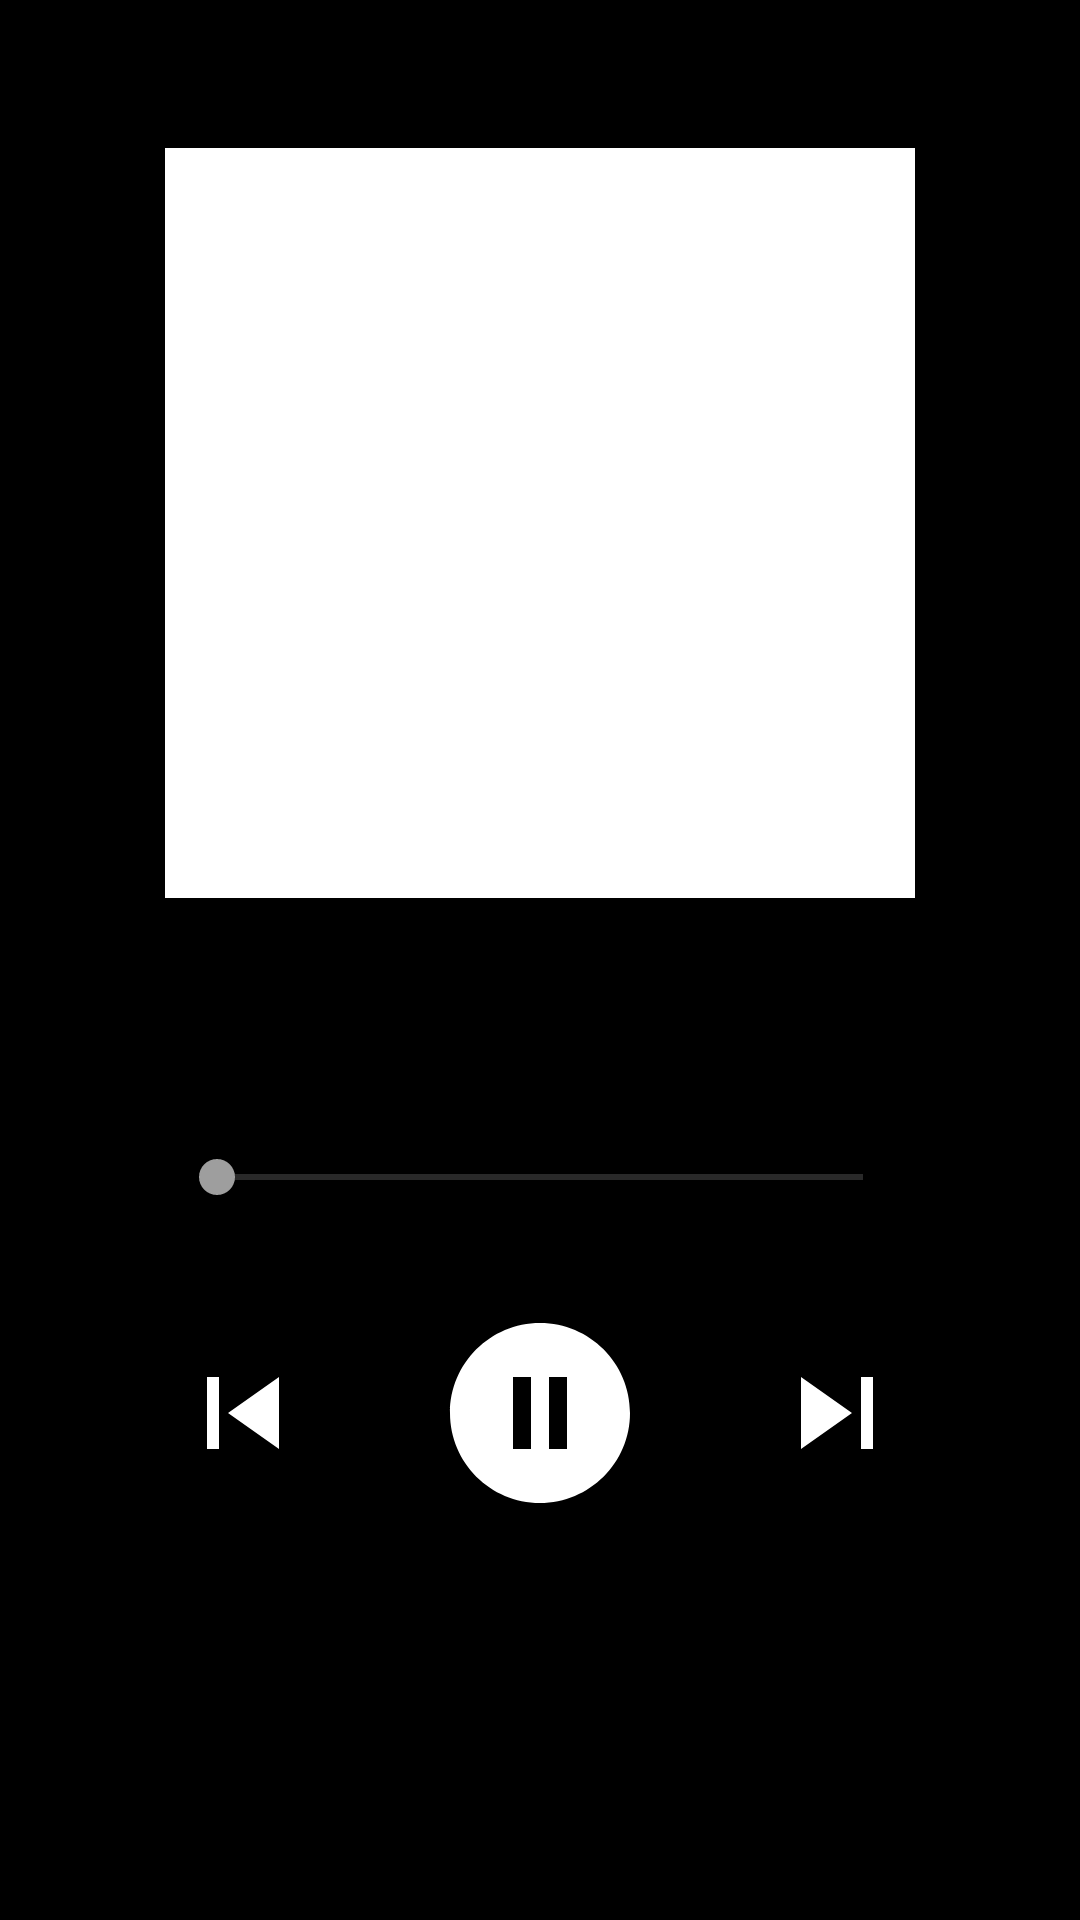

Icon click points for this 1080×1920 phone screenshot, format (x,y):
pause circle: (539,1413)
skip next: (837,1413)
skip previous: (243,1413)
